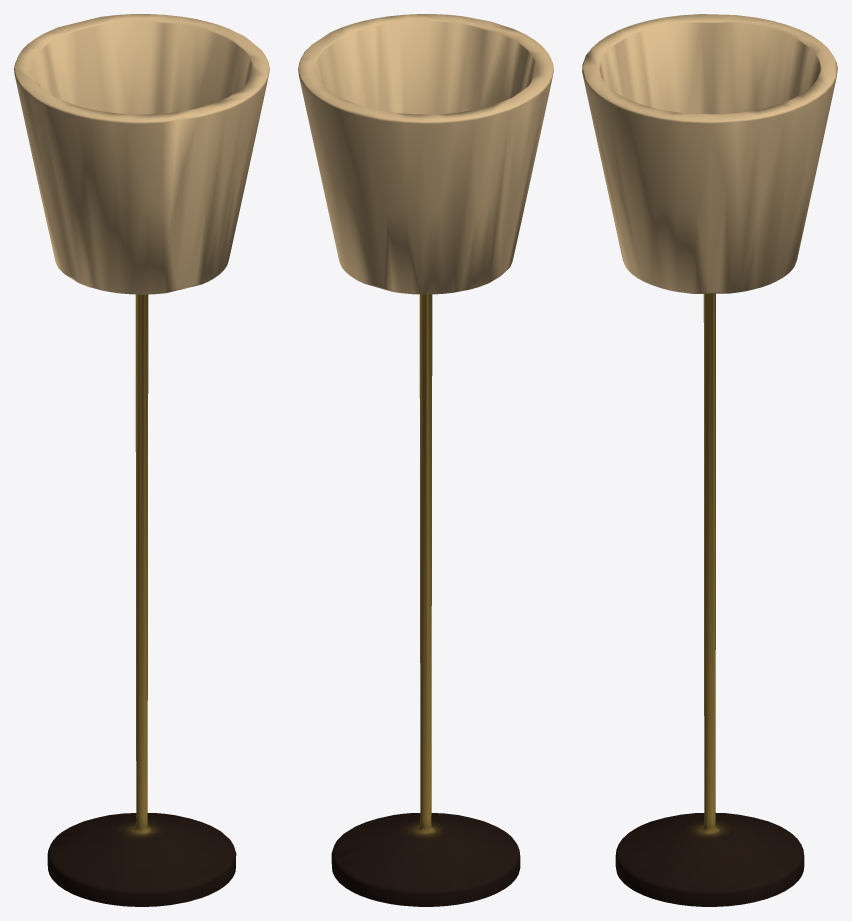
File: lumiere-floor-lamp.glb
3 views of the same model, side by side, from view 1: azimuth 30°, elevation 25°; view 2: azimuth 150°, elevation 25°; view 3: azimuth 270°, elevation 25° (orthographic).
Parts seen in each view (by area): view 1: lumiere-floor-lamp-shade_LOD0, lumiere-floor-lamp_LOD0; view 2: lumiere-floor-lamp-shade_LOD0, lumiere-floor-lamp_LOD0; view 3: lumiere-floor-lamp-shade_LOD0, lumiere-floor-lamp_LOD0.
Part boxes in pixels (left/top/right/bottom): lumiere-floor-lamp-shade_LOD0: left=14, top=14, right=269, bottom=294; lumiere-floor-lamp_LOD0: left=47, top=294, right=236, bottom=906; lumiere-floor-lamp-shade_LOD0: left=298, top=14, right=553, bottom=294; lumiere-floor-lamp_LOD0: left=331, top=294, right=520, bottom=906; lumiere-floor-lamp-shade_LOD0: left=582, top=14, right=837, bottom=293; lumiere-floor-lamp_LOD0: left=615, top=293, right=804, bottom=906.
Size of what is drawn, in the model's own units: 0.5697 by 1.97 by 0.5694.
